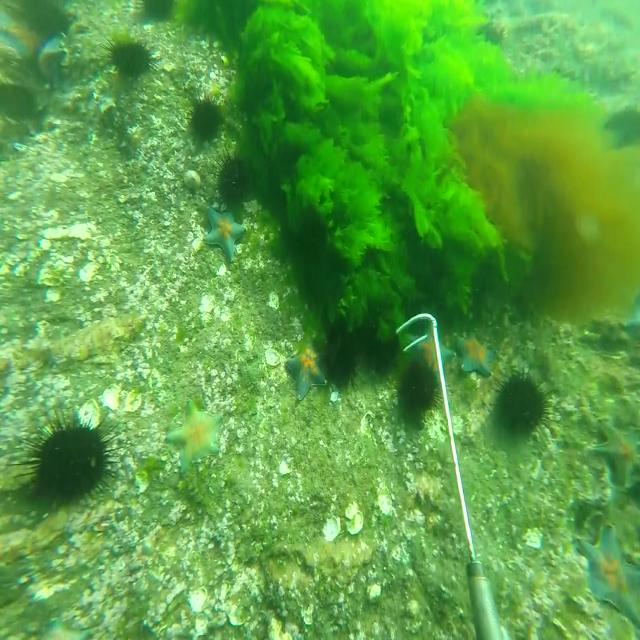echinus: (17, 413, 122, 508), (495, 366, 546, 436), (398, 352, 439, 424), (318, 323, 361, 388), (213, 151, 255, 212), (109, 34, 156, 82), (187, 89, 224, 142)
starfish: (576, 515, 640, 629), (164, 400, 223, 472), (589, 408, 640, 485), (406, 316, 455, 385), (285, 334, 327, 400), (202, 200, 248, 260), (457, 324, 492, 382)
